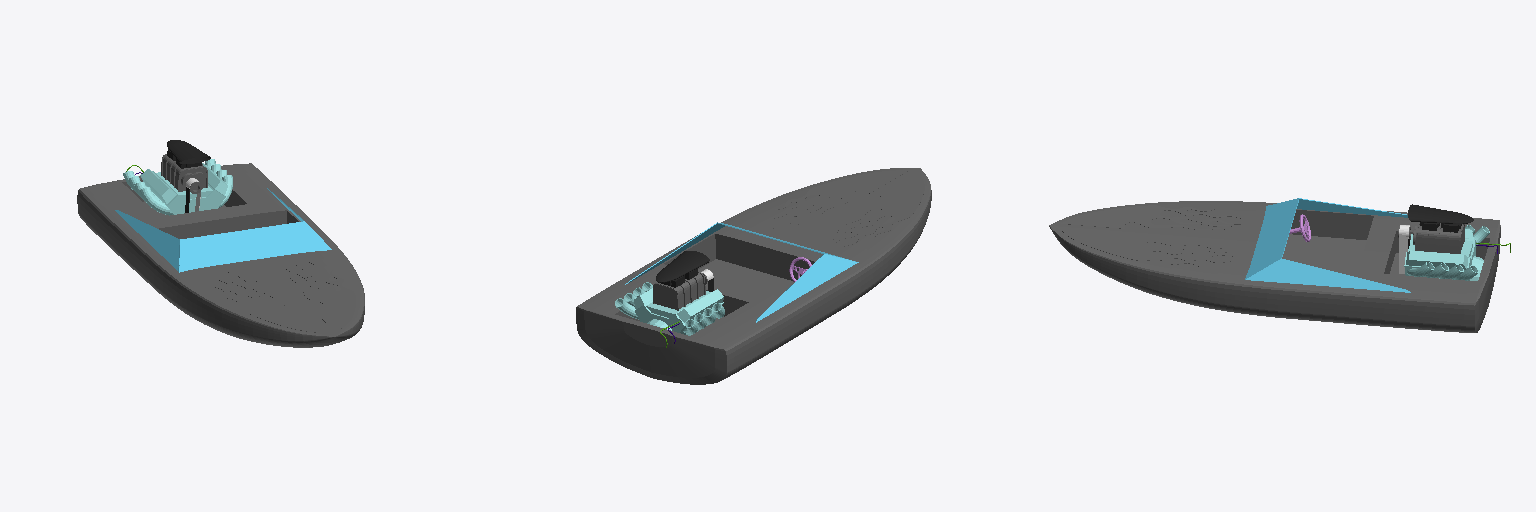
File: QAYIQ.obj
The picture shows the model from 3 angles: view 1: azimuth 30°, elevation 25°; view 2: azimuth 150°, elevation 25°; view 3: azimuth 270°, elevation 25°; orthographic projection.
Parts seen in each view (by area): view 1: HULL1, WINDSHIELD, ENGINE, BLOWER, CARB_SCOOP; view 2: HULL1, ENGINE, WINDSHIELD, BLOWER, CARB_SCOOP; view 3: HULL1, WINDSHIELD, ENGINE, BLOWER, CARB_SCOOP.
Part boxes in pixels (x1,y1,x2,y2): HULL1: (77, 163, 364, 347); WINDSHIELD: (115, 188, 331, 272); ENGINE: (123, 159, 232, 215); BLOWER: (161, 154, 207, 191); CARB_SCOOP: (167, 140, 210, 168); HULL1: (576, 168, 931, 384); ENGINE: (615, 282, 724, 335); WINDSHIELD: (625, 222, 858, 322); BLOWER: (653, 272, 705, 310); CARB_SCOOP: (656, 251, 709, 287); HULL1: (1049, 201, 1500, 332); WINDSHIELD: (1245, 198, 1410, 292); ENGINE: (1404, 225, 1489, 280); BLOWER: (1413, 222, 1464, 253); CARB_SCOOP: (1408, 204, 1473, 232).
Bounding box in the file's own units: 848 × 427 × 1793.